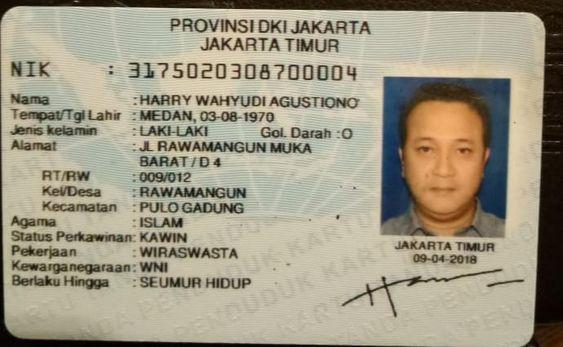ID-card: (5, 8, 544, 337)
